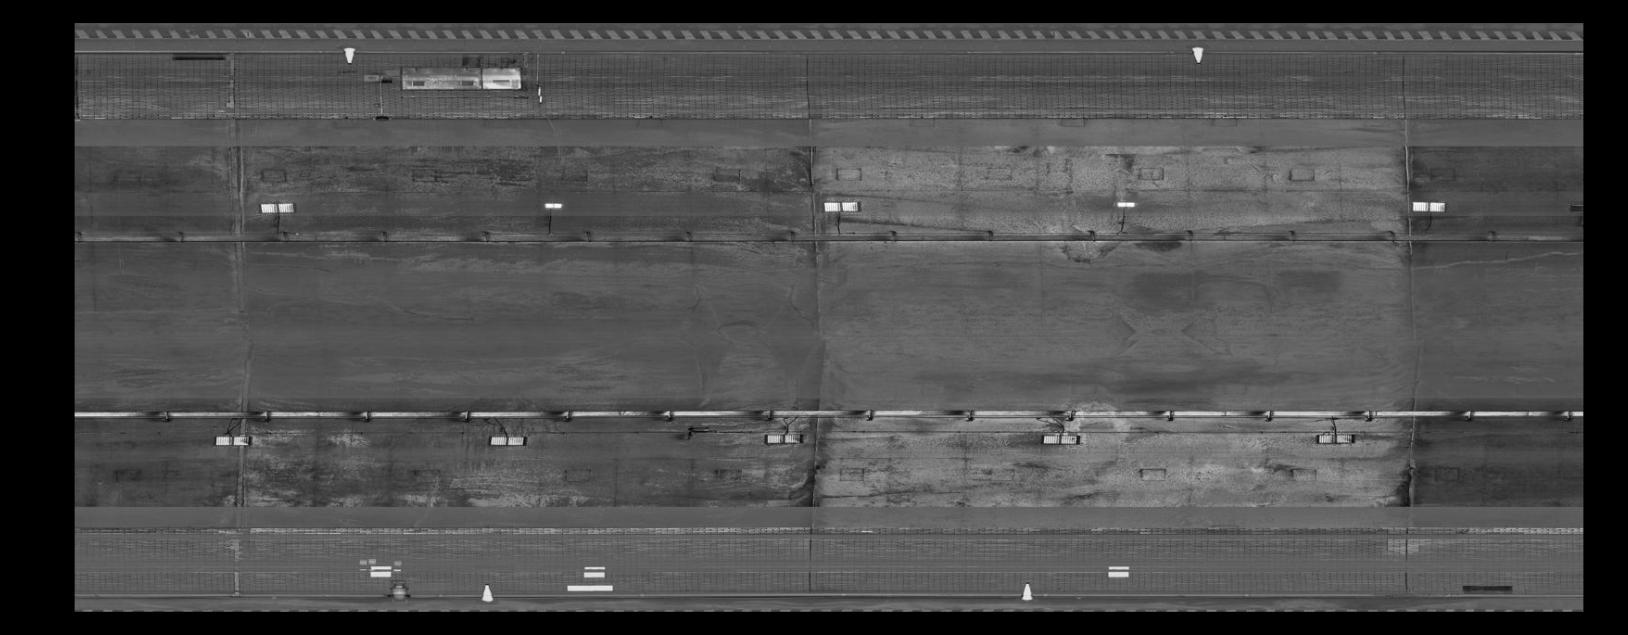light: (1039, 431, 1086, 449), (484, 432, 531, 450), (1312, 430, 1360, 447), (761, 430, 808, 447), (210, 432, 255, 448), (256, 200, 300, 216), (1410, 197, 1451, 213), (820, 198, 862, 214), (1110, 200, 1140, 209), (538, 201, 567, 210)
